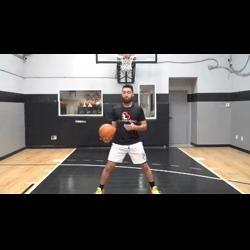BasketBall: (96, 122, 116, 143)
